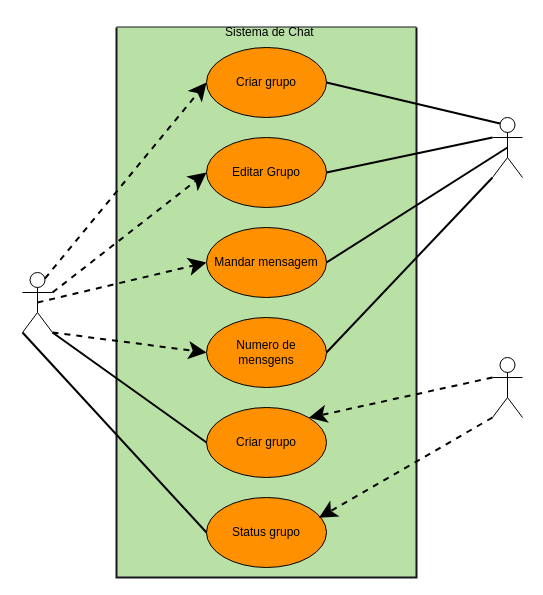
Some shapes in this 543 by 595 pixel diagram are drawn without their labels. Here are the shapes that lost their labels. From the top down, the centre of each, then its label:
At pixel 507 147: "Grupo".
At pixel 37 302: "Usuário".
At pixel 507 387: "Sistem".
